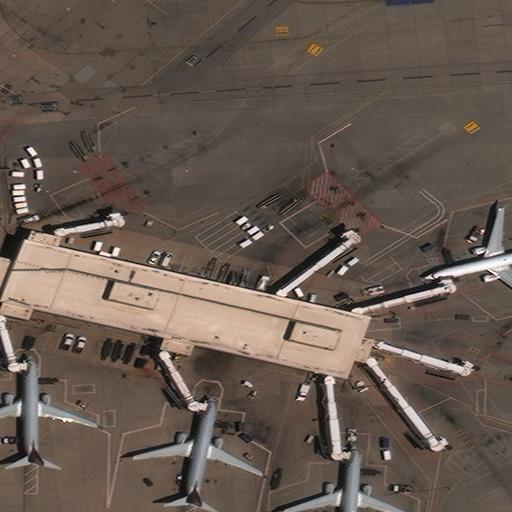Medium Civil Transport: (133, 396, 262, 507), (0, 354, 96, 466), (284, 445, 411, 511), (424, 208, 512, 299)
